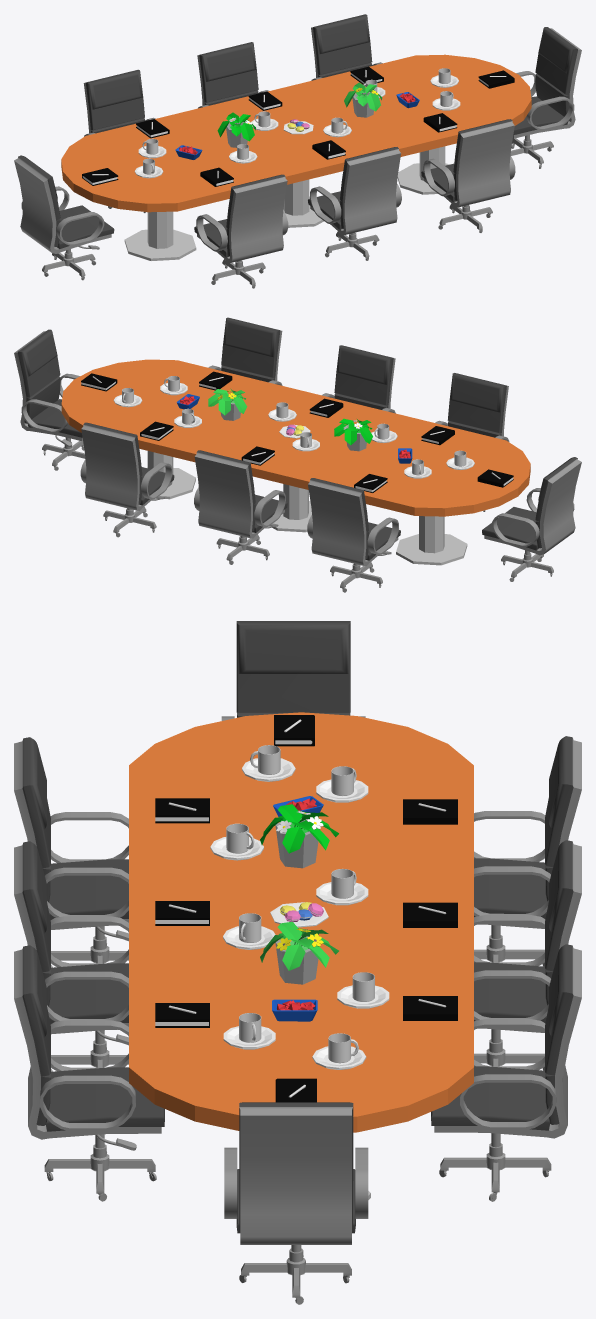
Rendered from SalaReunionesObjetos01.fbx.
3 views of the same model, one above another, from view 1: azimuth 30°, elevation 25°; view 2: azimuth 150°, elevation 25°; view 3: azimuth 270°, elevation 25° (orthographic). The views are drawn at different scales.
Visible parts, largest first — view 1: SalaReunionesObjetos01; view 2: SalaReunionesObjetos01; view 3: SalaReunionesObjetos01.
Boxes of the visible parts, x1,y1,x2,y2 form: SalaReunionesObjetos01: (14,14,581,288); SalaReunionesObjetos01: (14,317,581,592); SalaReunionesObjetos01: (14,621,581,1304).
Size of the model in its own units: 679 by 135 by 330.
